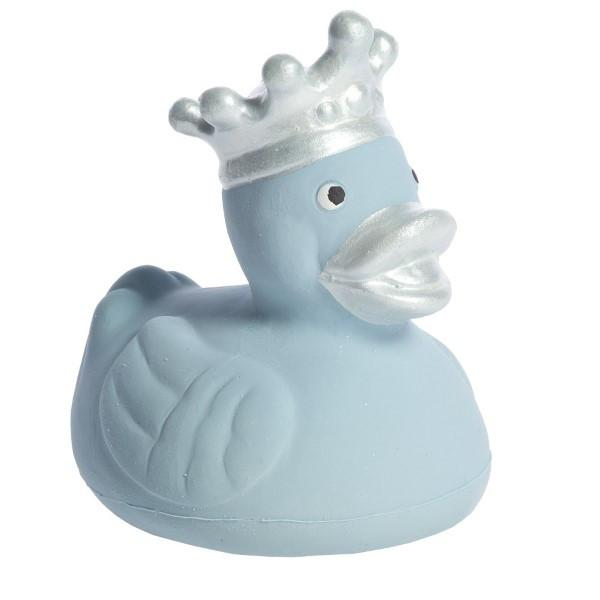Duck: (69, 4, 500, 559)
